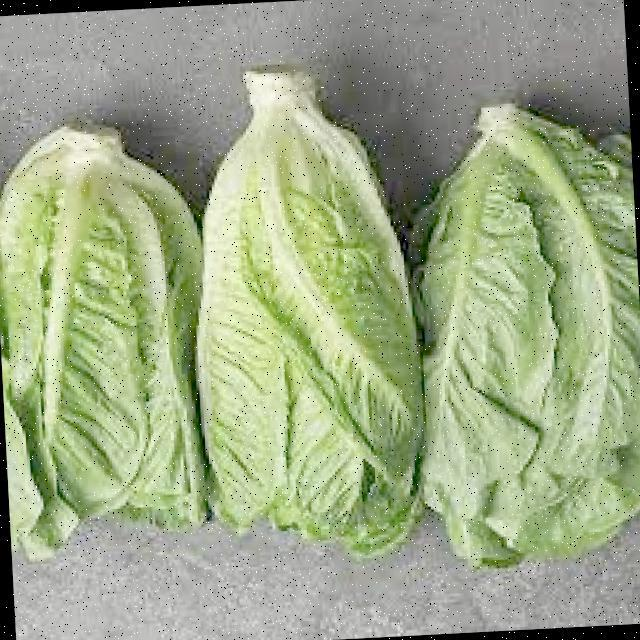Healthy: (188, 63, 419, 548), (440, 99, 635, 557), (0, 118, 198, 539)
